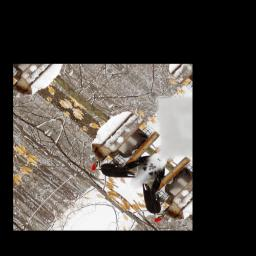Woodpecker: (88, 136, 151, 194)
